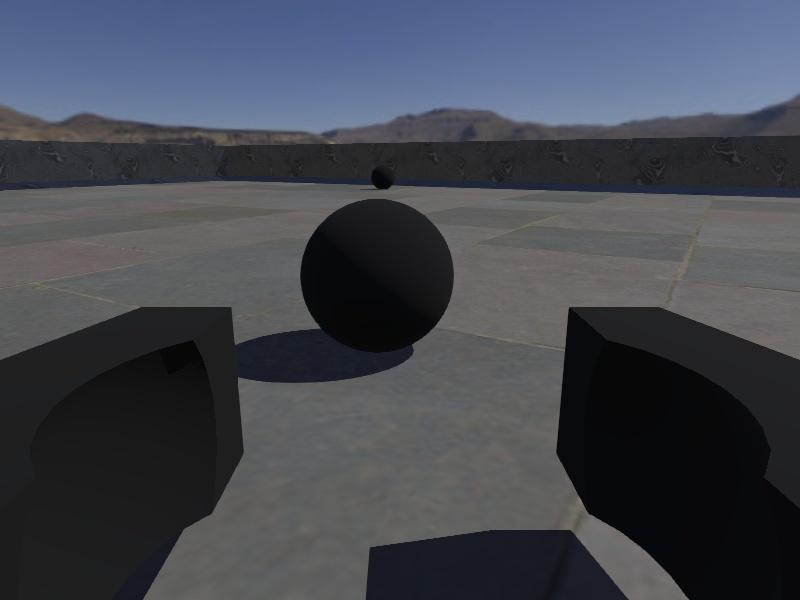black ball: (300, 197, 455, 354), (370, 162, 398, 188)
